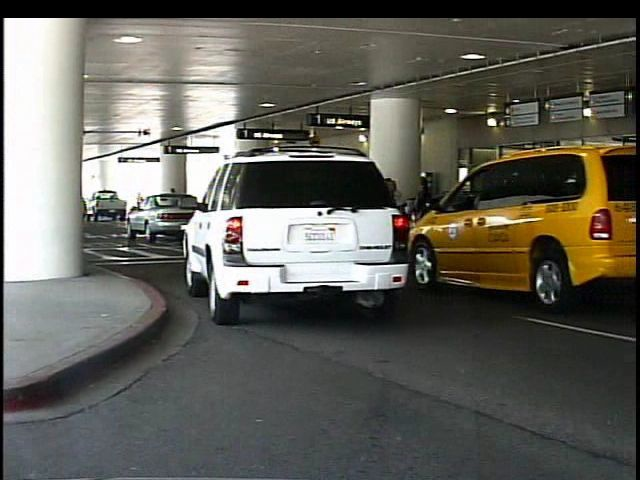person: (530, 169, 559, 261)
